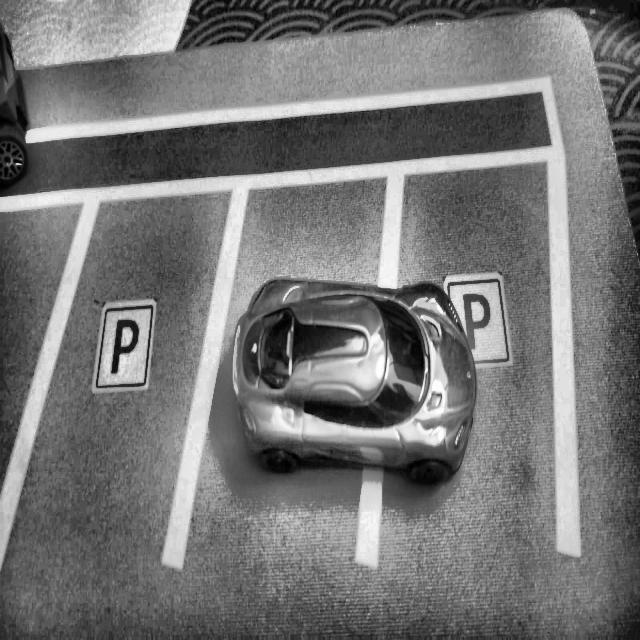car: (231, 276, 477, 478), (0, 20, 29, 189)
